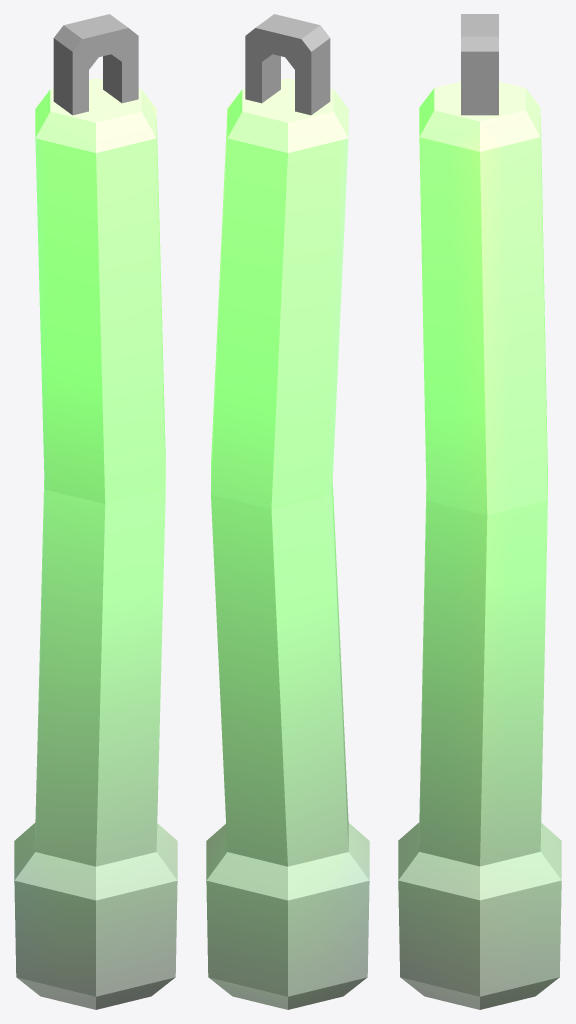
File: SM_Prop_Glowstick_01.fbx
3 renders of one model, left to right at view 1: azimuth 30°, elevation 25°; view 2: azimuth 150°, elevation 25°; view 3: azimuth 270°, elevation 25°, orthographic.
Visible parts, largest first — view 1: SM_Prop_Glowstick_01; view 2: SM_Prop_Glowstick_01; view 3: SM_Prop_Glowstick_01.
Boxes of the visible parts, <box> form: SM_Prop_Glowstick_01: <box>14,14,177,1009</box>; SM_Prop_Glowstick_01: <box>206,14,369,1009</box>; SM_Prop_Glowstick_01: <box>398,14,561,1009</box>.
Size of the model in its own units: 6.46 by 36.16 by 5.59.
